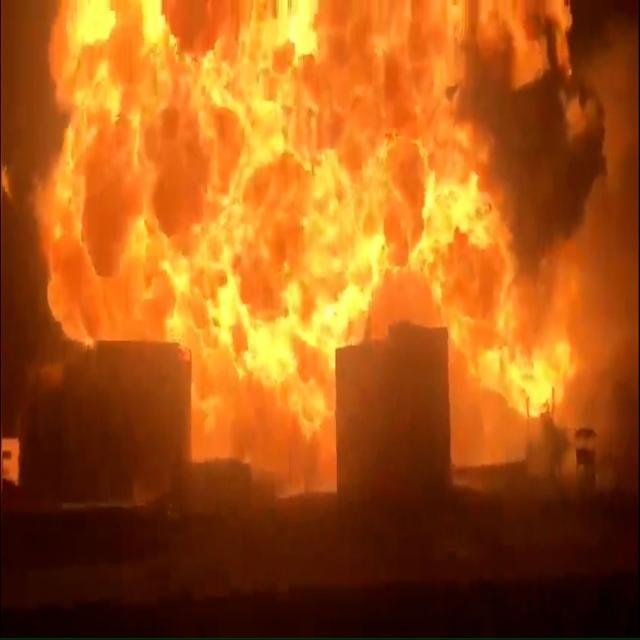fire: (260, 0, 600, 573), (69, 6, 258, 370)
